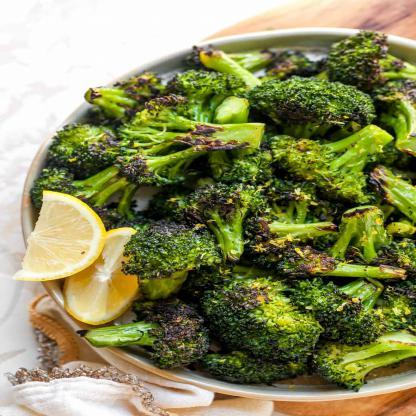broccoli: (30, 29, 416, 393)
